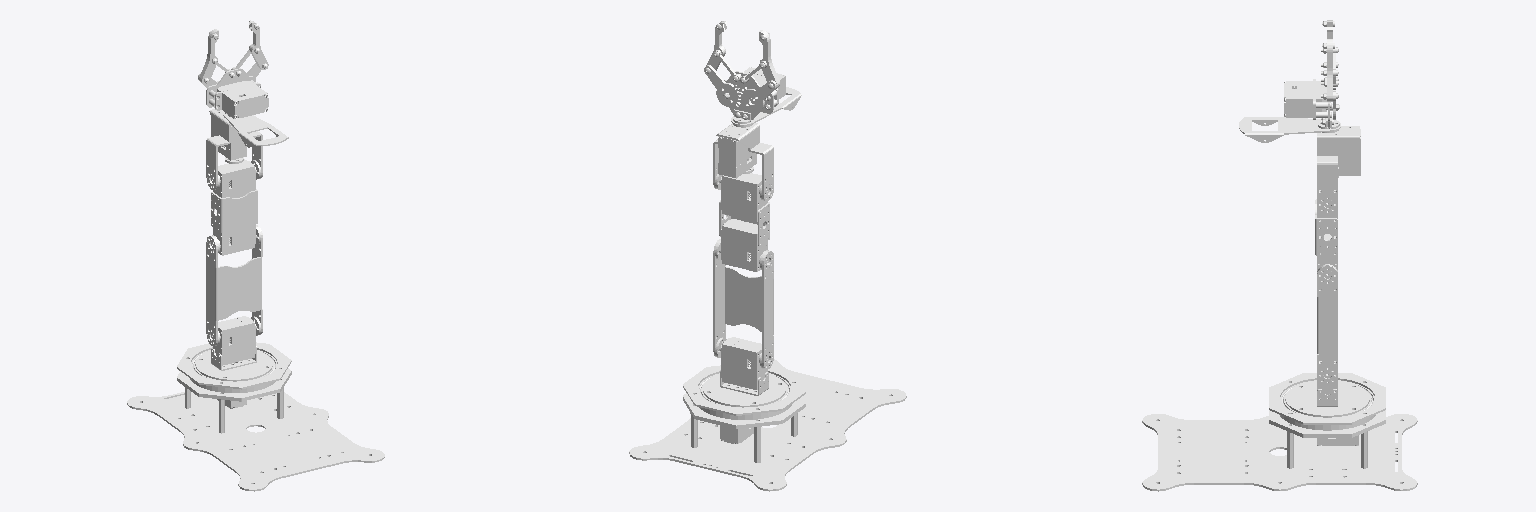
The robot description file, URDF, robot "arm5":
<?xml version="1.0" encoding="utf-8"?>
<!-- This URDF was automatically created by SolidWorks to URDF Exporter! Originally created by Stephen Brawner (brawner@gmail.com) 
     Commit Version: 1.6.0-4-g7f85cfe  Build Version: 1.6.7995.38578
     For more information, please see http://wiki.ros.org/sw_urdf_exporter -->
<robot
  name="arm5">
  <link
    name="base_link">
    <inertial>
      <origin
        xyz="8.51818926159154E-08 -0.0273681039843244 0.0127045720765079"
        rpy="0 0 0" />
      <mass
        value="0.16458462107419" />
      <inertia
        ixx="0.00041150201323589"
        ixy="1.46589197184313E-10"
        ixz="-3.31188421777096E-10"
        iyy="0.000204143843087598"
        iyz="7.92901093795095E-08"
        izz="0.00060564856541103" />
    </inertial>
    <visual>
      <origin
        xyz="0 0 0"
        rpy="0 0 0" />
      <geometry>
        <mesh
          filename="package://arm5/meshes/base_link.STL" />
      </geometry>
      <material
        name="">
        <color
          rgba="1 1 1 1" />
      </material>
    </visual>
    <collision>
      <origin
        xyz="0 0 0"
        rpy="0 0 0" />
      <geometry>
        <mesh
          filename="package://arm5/meshes/base_link.STL" />
      </geometry>
    </collision>
  </link>
  <link
    name="Link1">
    <inertial>
      <origin
        xyz="0.000105913686714636 0.00040120879513663 0.0195402484846079"
        rpy="0 0 0" />
      <mass
        value="0.043530023603619" />
      <inertia
        ixx="9.34182946081295E-06"
        ixy="4.94923582287401E-11"
        ixz="-2.92635668078002E-08"
        iyy="1.3223204080457E-05"
        iyz="1.06366940752727E-12"
        izz="1.39834989019938E-05" />
    </inertial>
    <visual>
      <origin
        xyz="0 0 0"
        rpy="0 0 0" />
      <geometry>
        <mesh
          filename="package://arm5/meshes/Link1.STL" />
      </geometry>
      <material
        name="">
        <color
          rgba="1 1 1 1" />
      </material>
    </visual>
    <collision>
      <origin
        xyz="0 0 0"
        rpy="0 0 0" />
      <geometry>
        <mesh
          filename="package://arm5/meshes/Link1.STL" />
      </geometry>
    </collision>
  </link>
  <joint
    name="joint1"
    type="revolute">
    <origin
      xyz="0.00015556 -0.010401 0.0455"
      rpy="0 0 0" />
    <parent
      link="base_link" />
    <child
      link="Link1" />
    <axis
      xyz="0 0 1" />
    <limit
      lower="-2"
      upper="2"
      effort="10"
      velocity="1" />
  </joint>
  <link
    name="Link2">
    <inertial>
      <origin
        xyz="-0.0208826757004759 -0.00295919060812876 0.0520000000000003"
        rpy="0 0 0" />
      <mass
        value="0.0173722544473974" />
      <inertia
        ixx="1.15710578009228E-05"
        ixy="-1.52893923299771E-18"
        ixz="-1.19553532650831E-19"
        iyy="1.86017491430925E-05"
        iyz="-4.76426388283396E-20"
        izz="8.32568495630538E-06" />
    </inertial>
    <visual>
      <origin
        xyz="0 0 0"
        rpy="0 0 0" />
      <geometry>
        <mesh
          filename="package://arm5/meshes/Link2.STL" />
      </geometry>
      <material
        name="">
        <color
          rgba="1 1 1 1" />
      </material>
    </visual>
    <collision>
      <origin
        xyz="0 0 0"
        rpy="0 0 0" />
      <geometry>
        <mesh
          filename="package://arm5/meshes/Link2.STL" />
      </geometry>
    </collision>
  </link>
  <joint
    name="joint2"
    type="revolute">
    <origin
      xyz="0.021594 0.00040116 0.037"
      rpy="0 0 0" />
    <parent
      link="Link1" />
    <child
      link="Link2" />
    <axis
      xyz="1 0 0" />
    <limit
      lower="-2"
      upper="2"
      effort="10"
      velocity="1" />
  </joint>
  <link
    name="Link3">
    <inertial>
      <origin
        xyz="-0.0214214268333186 -0.000485443578266929 0.037"
        rpy="0 0 0" />
      <mass
        value="0.0692821611405451" />
      <inertia
        ixx="1.14462780771171E-05"
        ixy="-6.06398352244383E-21"
        ixz="7.22955855371346E-21"
        iyy="1.96936067365623E-05"
        iyz="2.12733880946621E-12"
        izz="1.28669130490539E-05" />
    </inertial>
    <visual>
      <origin
        xyz="0 0 0"
        rpy="0 0 0" />
      <geometry>
        <mesh
          filename="package://arm5/meshes/Link3.STL" />
      </geometry>
      <material
        name="">
        <color
          rgba="1 1 1 1" />
      </material>
    </visual>
    <collision>
      <origin
        xyz="0 0 0"
        rpy="0 0 0" />
      <geometry>
        <mesh
          filename="package://arm5/meshes/Link3.STL" />
      </geometry>
    </collision>
  </link>
  <joint
    name="joint3"
    type="revolute">
    <origin
      xyz="0 0 0.104"
      rpy="0 0 0" />
    <parent
      link="Link2" />
    <child
      link="Link3" />
    <axis
      xyz="1 0 0" />
    <limit
      lower="-2"
      upper="2"
      effort="10"
      velocity="1" />
  </joint>
  <link
    name="Link4">
    <inertial>
      <origin
        xyz="-0.0209761574818076 0.00923541238114658 0.0397650881962424"
        rpy="0 0 0" />
      <mass
        value="0.0426509079225943" />
      <inertia
        ixx="1.32344532511061E-05"
        ixy="1.06366939171165E-12"
        ixz="-4.94923582457149E-11"
        iyy="1.26923123077707E-05"
        iyz="-6.37430608552907E-07"
        izz="9.62463185165699E-06" />
    </inertial>
    <visual>
      <origin
        xyz="0 0 0"
        rpy="0 0 0" />
      <geometry>
        <mesh
          filename="package://arm5/meshes/Link4.STL" />
      </geometry>
      <material
        name="">
        <color
          rgba="1 1 1 1" />
      </material>
    </visual>
    <collision>
      <origin
        xyz="0 0 0"
        rpy="0 0 0" />
      <geometry>
        <mesh
          filename="package://arm5/meshes/Link4.STL" />
      </geometry>
    </collision>
  </link>
  <joint
    name="joint4"
    type="revolute">
    <origin
      xyz="0 0 0.074"
      rpy="0 0 0" />
    <parent
      link="Link3" />
    <child
      link="Link4" />
    <axis
      xyz="1 0 0" />
    <limit
      lower="-2"
      upper="2"
      effort="10"
      velocity="1" />
  </joint>
  <link
    name="Link5">
    <inertial>
      <origin
        xyz="-0.00280854014207049 -0.0199006433680231 0.0751785235203321"
        rpy="0 0 0" />
      <mass
        value="0.0434533880931407" />
      <inertia
        ixx="8.57114300520578E-06"
        ixy="7.92901092995589E-08"
        ixz="1.46613988123481E-10"
        iyy="7.35278844250814E-06"
        iyz="-3.82279046729836E-08"
        izz="1.28191201763786E-05" />
    </inertial>
    <visual>
      <origin
        xyz="0 0 0"
        rpy="0 0 0" />
      <geometry>
        <mesh
          filename="package://arm5/meshes/Link5.STL" />
      </geometry>
      <material
        name="">
        <color
          rgba="1 1 1 1" />
      </material>
    </visual>
    <collision>
      <origin
        xyz="0 0 0"
        rpy="0 0 0" />
      <geometry>
        <mesh
          filename="package://arm5/meshes/Link5.STL" />
      </geometry>
    </collision>
  </link>
  <joint
    name="joint5"
    type="revolute">
    <origin
      xyz="-0.021 0.001 0.0165"
      rpy="0 0 0" />
    <parent
      link="Link4" />
    <child
      link="Link5" />
    <axis
      xyz="0 0 1" />
    <limit
      lower="-2"
      upper="2"
      effort="10"
      velocity="1" />
  </joint>
  <link
    name="Link6">
    <inertial>
      <origin
        xyz="-0.0100054353668407 0.00333914588902427 0.0283362891503771"
        rpy="0 0 0" />
      <mass
        value="0.00567514824006012" />
      <inertia
        ixx="9.3419933206612E-07"
        ixy="-5.88643974647161E-17"
        ixz="7.08746840239224E-09"
        iyy="1.1985097244084E-06"
        iyz="6.48874826643177E-17"
        izz="3.02116459096834E-07" />
    </inertial>
    <visual>
      <origin
        xyz="0 0 0"
        rpy="0 0 0" />
      <geometry>
        <mesh
          filename="package://arm5/meshes/Link6.STL" />
      </geometry>
      <material
        name="">
        <color
          rgba="1 1 1 1" />
      </material>
    </visual>
    <collision>
      <origin
        xyz="0 0 0"
        rpy="0 0 0" />
      <geometry>
        <mesh
          filename="package://arm5/meshes/Link6.STL" />
      </geometry>
    </collision>
  </link>
  <joint
    name="joint6"
    type="revolute">
    <origin
      xyz="-0.013901 -0.0005 0.078656"
      rpy="0 0 0" />
    <parent
      link="Link5" />
    <child
      link="Link6" />
    <axis
      xyz="0 1 0" />
    <limit
      lower="-2"
      upper="2"
      effort="10"
      velocity="1" />
  </joint>
  <link
    name="Link7">
    <inertial>
      <origin
        xyz="0.0099298481012064 -0.00810145058870041 0.0278557730128414"
        rpy="0 0 0" />
      <mass
        value="0.00580473893702071" />
      <inertia
        ixx="9.38289314159074E-07"
        ixy="-5.96582610214998E-17"
        ixz="-1.00190742284636E-08"
        iyy="1.20562037102221E-06"
        iyz="1.48542560546682E-17"
        izz="3.05331509663132E-07" />
    </inertial>
    <visual>
      <origin
        xyz="0 0 0"
        rpy="0 0 0" />
      <geometry>
        <mesh
          filename="package://arm5/meshes/Link7.STL" />
      </geometry>
      <material
        name="">
        <color
          rgba="1 1 1 1" />
      </material>
    </visual>
    <collision>
      <origin
        xyz="0 0 0"
        rpy="0 0 0" />
      <geometry>
        <mesh
          filename="package://arm5/meshes/Link7.STL" />
      </geometry>
    </collision>
  </link>
  <joint
    name="joint7"
    type="revolute">
    <origin
      xyz="0.01375 0.011 0.0785"
      rpy="0 0 0" />
    <parent
      link="Link5" />
    <child
      link="Link7" />
    <axis
      xyz="0 -1 0" />
    <limit
      lower="-2"
      upper="2"
      effort="10"
      velocity="1" />
  </joint>
</robot>

--- Facts derived from the render (not from the file) ---
3 views of the same robot in one strip: view 1: azimuth 30°, elevation 25°; view 2: azimuth 150°, elevation 25°; view 3: azimuth 270°, elevation 25° (orthographic).
Model arm5 with 8 links and 7 joints (7 revolute), rooted at base_link, posed every joint at zero.
Links seen in each view (by area): view 1: base_link, Link2, Link3, Link1, Link5, Link4, Link7, Link6; view 2: base_link, Link2, Link3, Link1, Link4, Link5, Link6, Link7; view 3: base_link, Link5, Link4, Link1, Link2, Link3, Link7.
Link boxes in pixels (x1=…): base_link: x1=127, y1=342, x2=384, y2=491; Link2: x1=206, y1=225, x2=262, y2=345; Link3: x1=211, y1=159, x2=257, y2=255; Link1: x1=195, y1=316, x2=272, y2=381; Link5: x1=206, y1=68, x2=288, y2=147; Link4: x1=206, y1=109, x2=262, y2=189; Link7: x1=232, y1=20, x2=268, y2=78; Link6: x1=198, y1=29, x2=229, y2=87; base_link: x1=629, y1=359, x2=906, y2=491; Link2: x1=713, y1=239, x2=773, y2=369; Link3: x1=719, y1=173, x2=769, y2=271; Link1: x1=703, y1=337, x2=785, y2=407; Link4: x1=713, y1=123, x2=773, y2=200; Link5: x1=723, y1=67, x2=801, y2=127; Link6: x1=739, y1=30, x2=779, y2=112; Link7: x1=704, y1=21, x2=740, y2=107; base_link: x1=1142, y1=373, x2=1417, y2=491; Link5: x1=1239, y1=77, x2=1340, y2=142; Link4: x1=1317, y1=126, x2=1360, y2=213; Link1: x1=1285, y1=361, x2=1369, y2=417; Link2: x1=1317, y1=264, x2=1337, y2=384; Link3: x1=1315, y1=190, x2=1337, y2=275; Link7: x1=1321, y1=39, x2=1338, y2=119.
Bounding box of the posed robot: 0.17 × 0.26 × 0.4415 m (x, y, z).
8 mesh visuals loaded from 8 distinct referenced files (8 binary STL).
